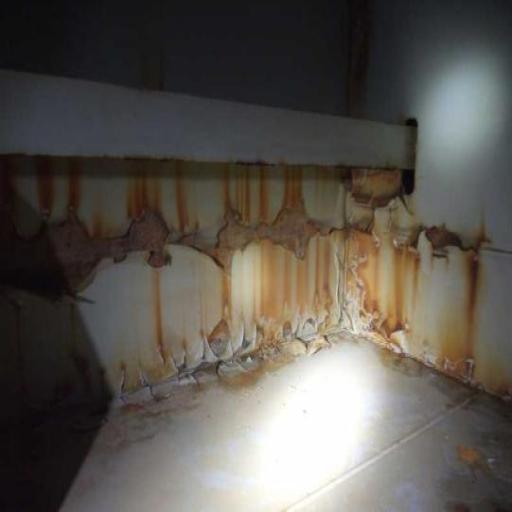Detect-rust-on-metal-surfaces: (0, 155, 511, 500)
